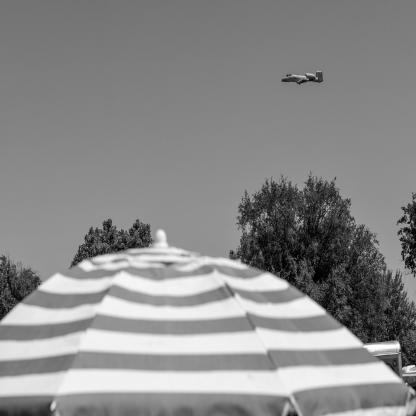A10: (282, 71, 324, 86)
